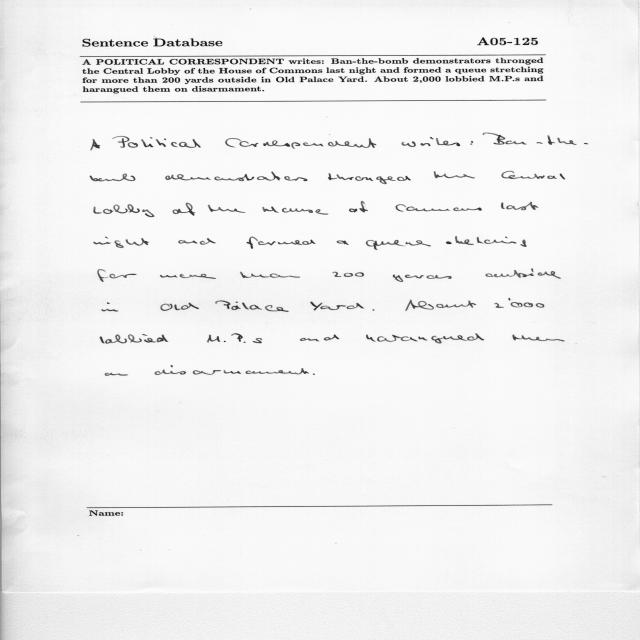word: (225, 138, 377, 149), (155, 365, 309, 375), (165, 172, 308, 182), (483, 133, 588, 145), (366, 334, 484, 344), (112, 136, 201, 148), (328, 173, 411, 184), (247, 236, 316, 249), (446, 236, 527, 247), (215, 300, 289, 312), (486, 268, 561, 279), (406, 300, 477, 311), (94, 204, 154, 217), (396, 204, 482, 212), (366, 240, 431, 250), (100, 334, 168, 343), (94, 237, 149, 248), (402, 137, 460, 147), (501, 171, 565, 180), (207, 334, 262, 344), (263, 207, 329, 215), (494, 298, 545, 308), (98, 269, 137, 282), (311, 302, 365, 311), (393, 275, 452, 282), (90, 174, 136, 182), (513, 335, 565, 342), (240, 272, 300, 278), (160, 302, 199, 311), (208, 205, 246, 213), (173, 203, 196, 216), (501, 202, 538, 210), (434, 172, 475, 179), (160, 274, 216, 279), (300, 335, 339, 342), (178, 238, 216, 245), (349, 201, 368, 212), (333, 272, 364, 277), (102, 303, 118, 312), (91, 139, 100, 150), (337, 241, 349, 245), (105, 373, 128, 375), (470, 141, 473, 145), (373, 309, 375, 311), (313, 373, 315, 375)
